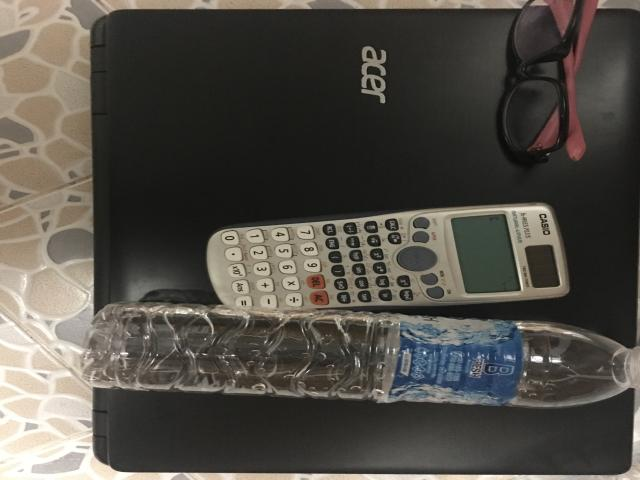Glasses: (500, 0, 598, 162)
bottle: (83, 302, 640, 408)
